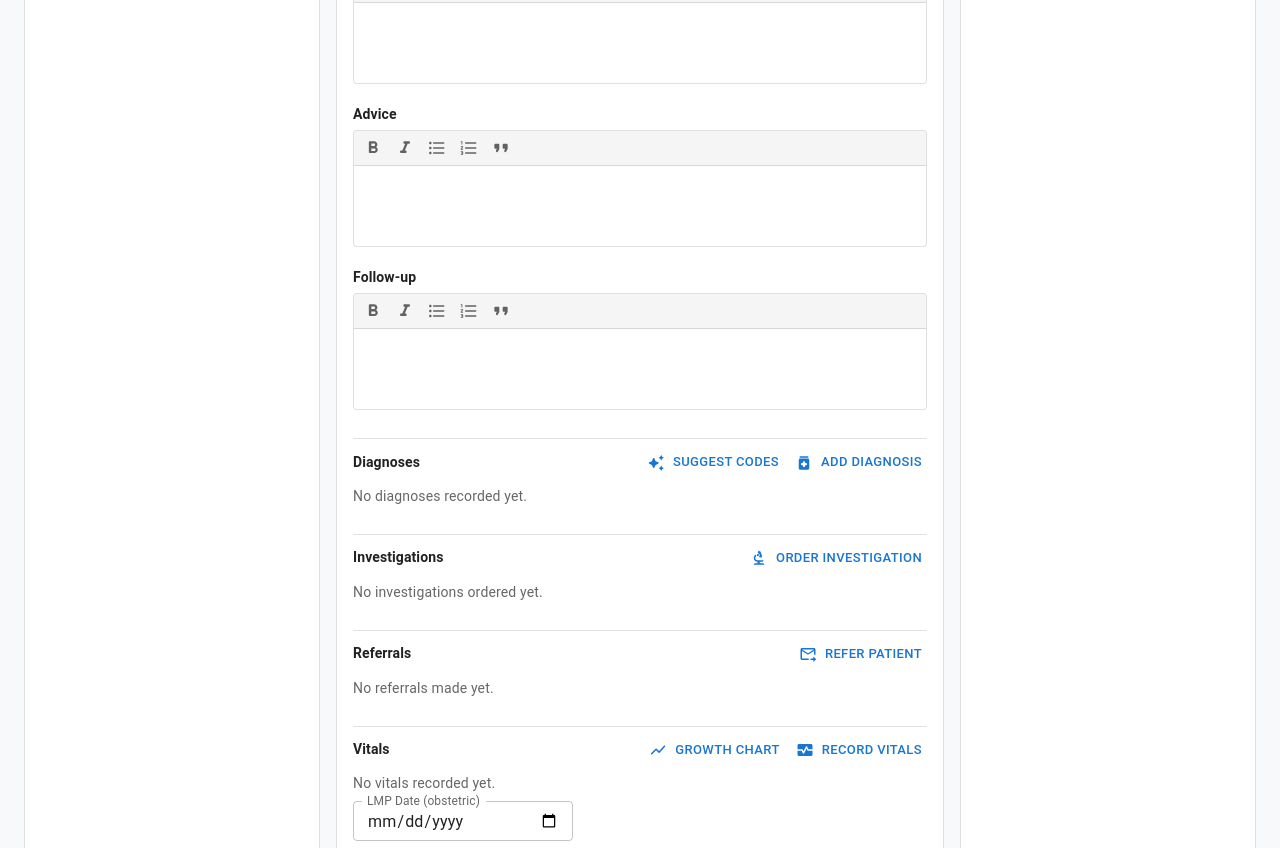
Scenario: EncounterWorkspace — diagnoses + save-as-template (A-5/A-6) › adds a diagnosis via the real createDiagnosis mutation and refetches
(page scrolled)
Expected: the text "No diagnoses recorded yet." is shown, [353,488,527,504]
Click the button "Add Diagnosis": (860, 463) [792,447,927,478]
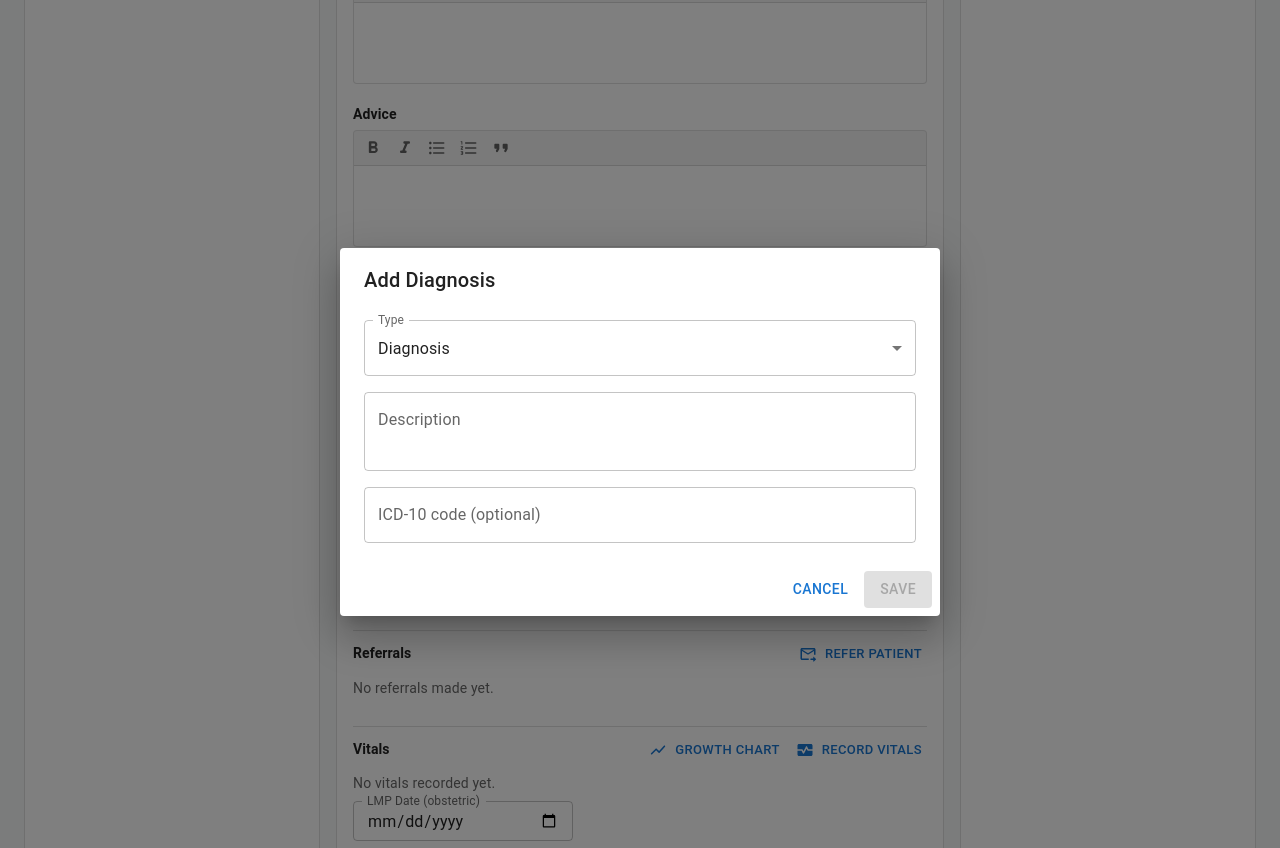
In the text box labelled "Description": (640, 432) [378,409,902,455], type "Penicillin allergy"
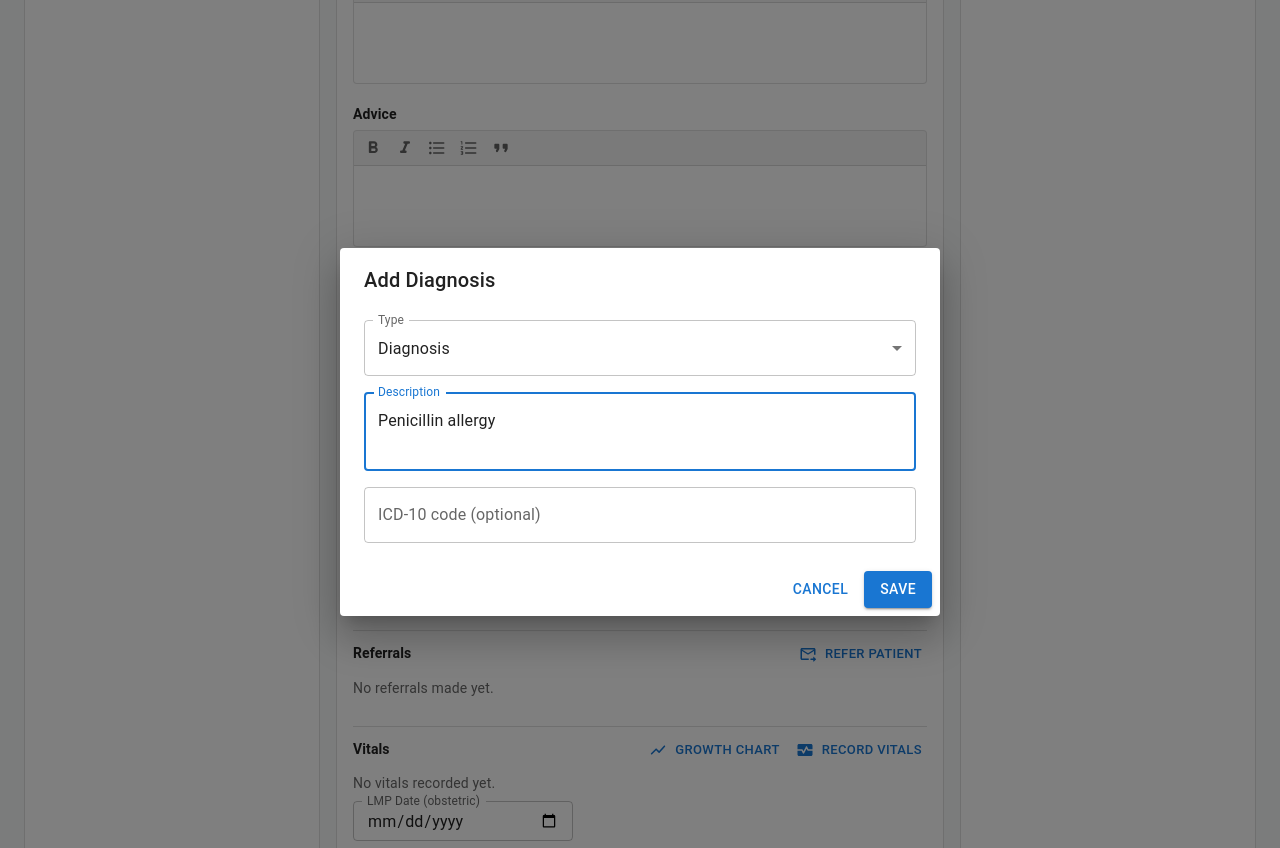
Click the button "Save": (898, 590) [864,571,932,608]
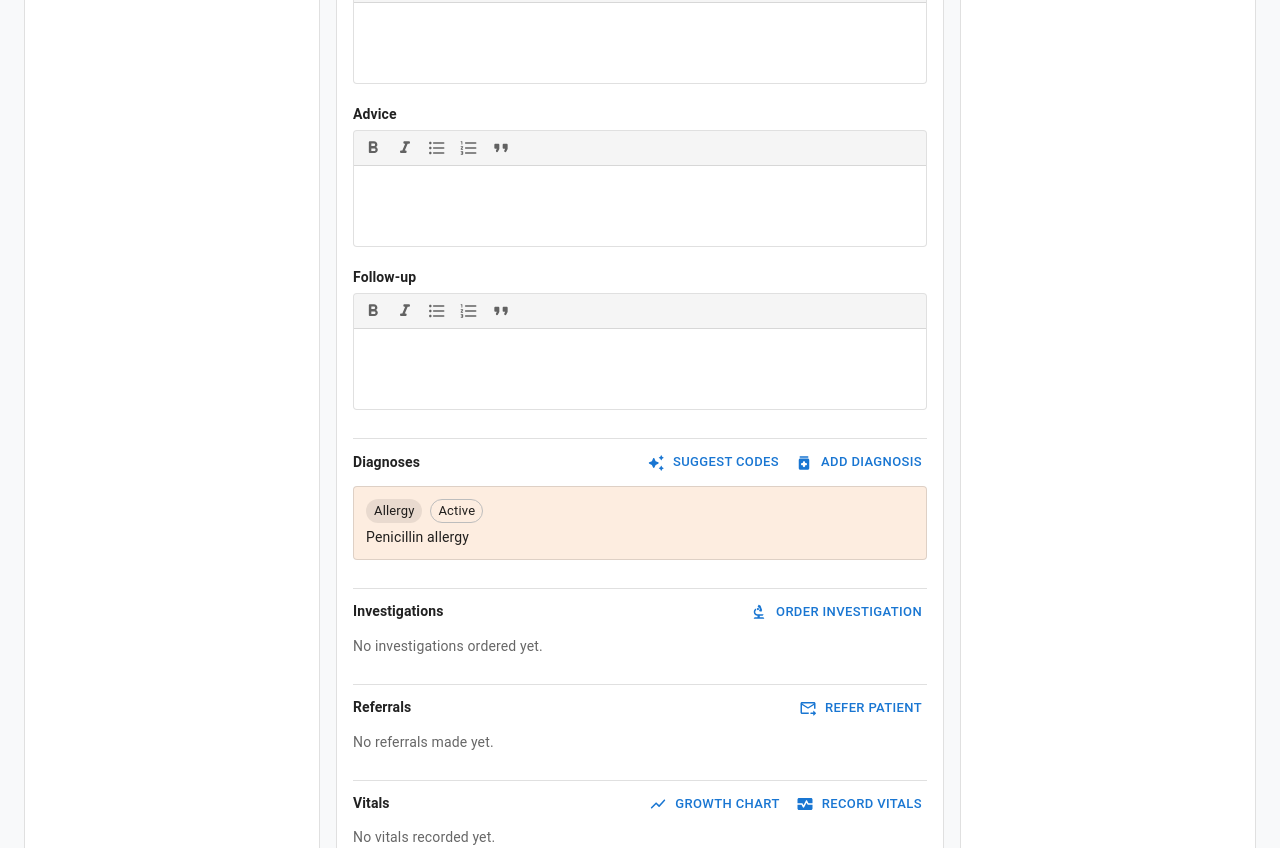
Expected: the text "Penicillin allergy" is shown, [366,529,469,545]
